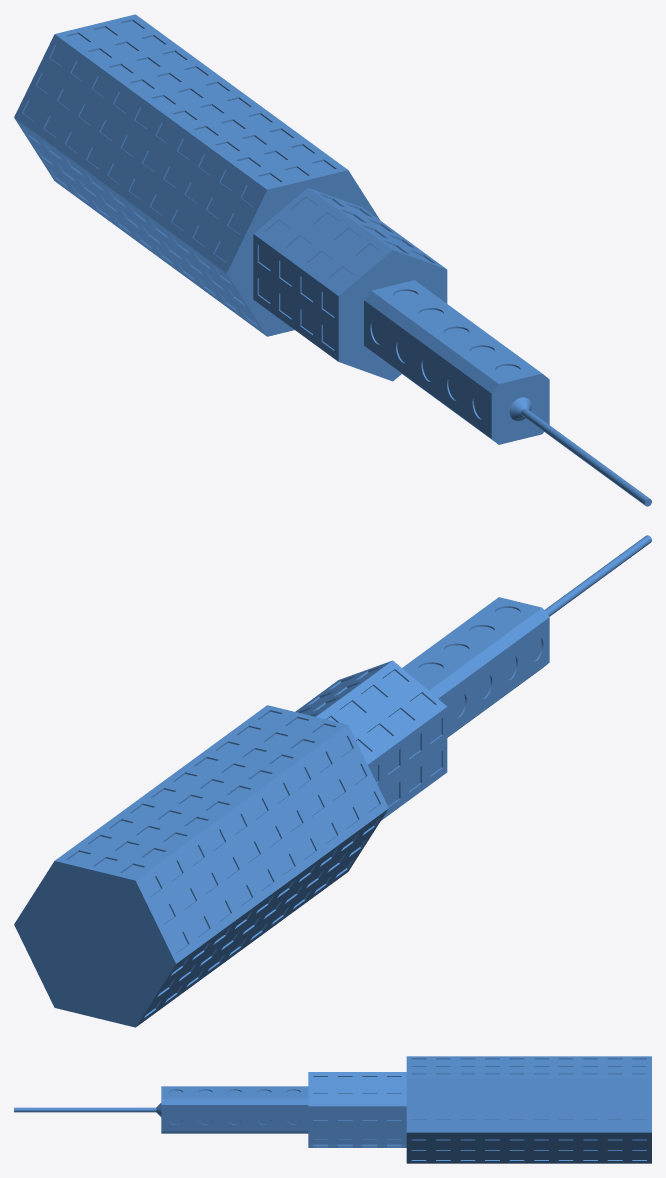
Rendered from StevenBuilding1.fbx.
3 renders of one model, top to bottom at view 1: azimuth 30°, elevation 25°; view 2: azimuth 150°, elevation 25°; view 3: azimuth 270°, elevation 25°, orthographic. The views are drawn at different scales.
Parts seen in each view (by area): view 1: Body2; view 2: Body2; view 3: Body2.
Part boxes in pixels (bbox=[...]): Body2: bbox=[14, 14, 651, 506]; Body2: bbox=[14, 535, 651, 1027]; Body2: bbox=[14, 1056, 651, 1163].
Bounding box in the file's own units: 110 × 95.26 × 650.
